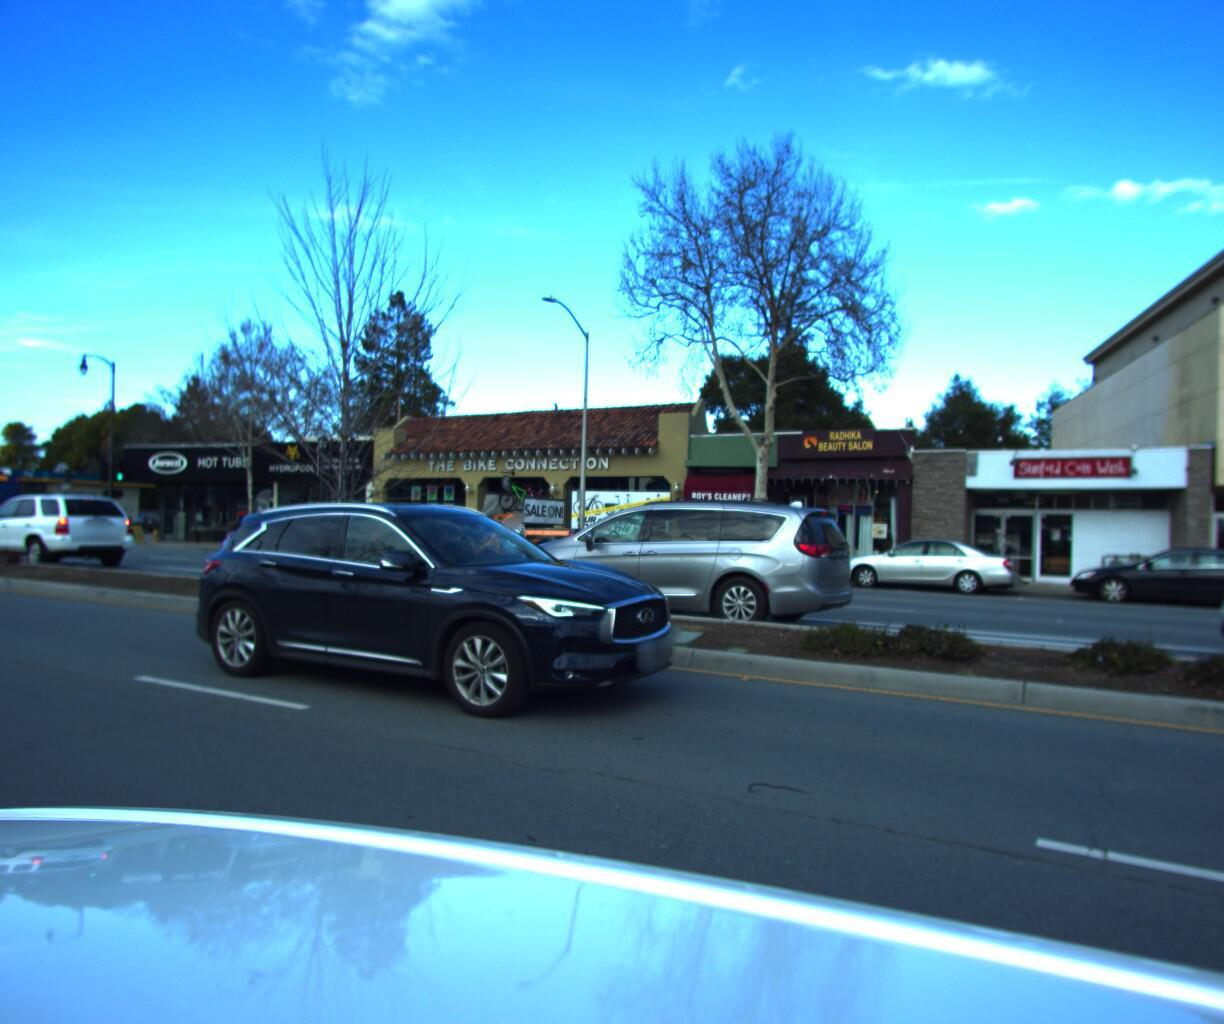bus: (0, 451, 30, 546)
car: (180, 491, 712, 737), (478, 499, 872, 648), (194, 496, 445, 593), (429, 473, 616, 571), (823, 529, 1024, 593), (1065, 537, 1224, 611), (0, 488, 138, 567), (1214, 508, 1224, 749), (135, 503, 208, 529), (0, 496, 11, 556)
